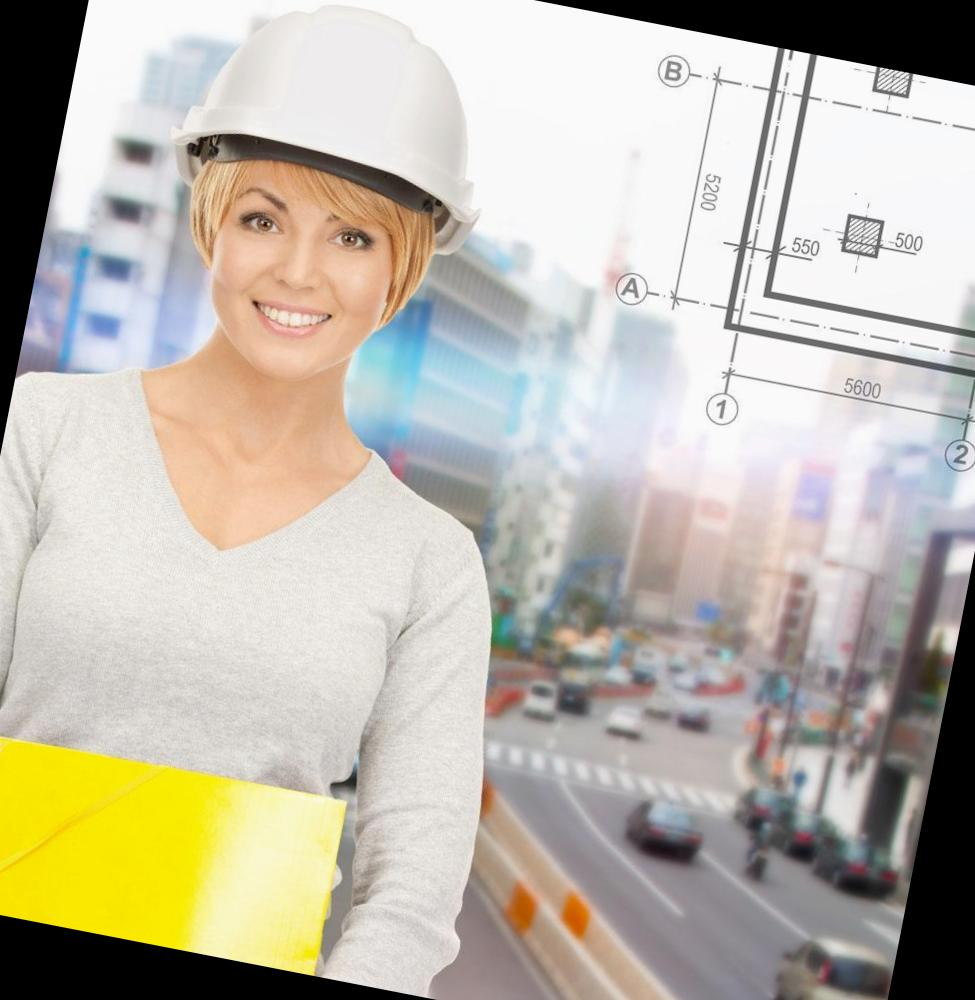helmet: (177, 0, 504, 232)
no_vest: (0, 354, 560, 1000)
person: (0, 0, 605, 996)
